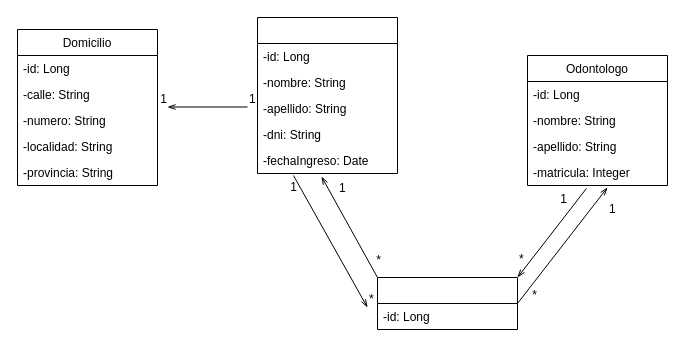
Some shapes in this 685 by 350 pixel diagram are drawn without their labels. The shapes that lost their labels are listed below. From the top down, each one's box as (x1, y1, x2, y2) in pixels, then its label:
(256, 16, 398, 174): Paciente
(376, 276, 518, 330): Turno
